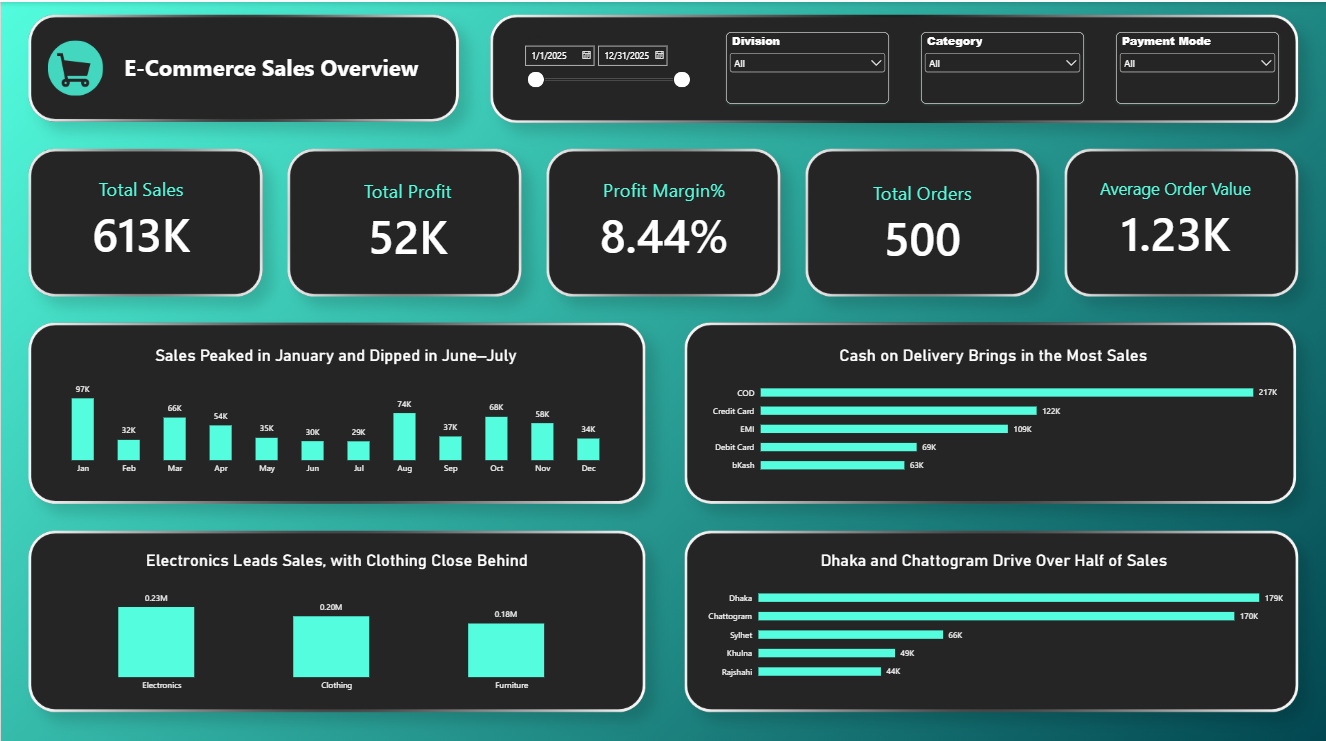

What the dashboard file says about the page in this screenshot:
{"tool":"powerbi","page":{"name":"Executive Overview","canvas":[1920,1080],"ordinal":0},"visuals":[{"type":"textbox","box":[146.1,66.8,499.9,248.9],"z":0},{"type":"cardVisual","fields":{"Data":["Calculation.Total Sales"]},"box":[67,231.6,272.7,168.8],"z":1000},{"type":"clusteredColumnChart","title":"Electronics Leads Sales, with Clothing Close Behind","fields":{"Category":["Product.Category"],"Y":["Sum(Sales.Amount)"]},"box":[51.9,779.1,867.8,238.1],"z":2000},{"type":"clusteredBarChart","title":"\tDhaka and Chattogram Drive Over Half of Sales","fields":{"Category":["Location.State "],"Y":["Sum(Sales.Amount)"]},"box":[1002,779.1,870,222.9],"z":3000},{"type":"slicer","fields":{"Values":["Calendar.Date"]},"box":[751,43.3,251,103.9],"z":4000},{"type":"slicer","fields":{"Values":["Product.Category"]},"box":[1331.7,43.3,235.9,103.9],"z":5000},{"type":"slicer","fields":{"Values":["Location.State "]},"box":[1048.9,43.3,235.9,103.9],"z":6000},{"type":"slicer","fields":{"Values":["Sales.PaymentMode"]},"box":[1614.5,43.3,235.9,103.9],"z":7000},{"type":"lineClusteredColumnComboChart","title":"\tSales Peaked in January and Dipped in June–July","fields":{"Category":["Calendar.Month"],"Y":["Calculation.Total Sales"]},"box":[59.7,483.2,850.5,220.7],"z":8000},{"type":"cardVisual","fields":{"Data":["Calculation.Total Profit"]},"box":[437.9,244.3,303,149.3],"z":9000},{"type":"cardVisual","fields":{"Data":["Calculation.Profit Margin%"]},"box":[831,238.1,259.7,158],"z":10000},{"type":"cardVisual","fields":{"Data":["Calculation.Total Orders"]},"box":[1203.3,231.6,261.9,181.8],"z":11000},{"type":"cardVisual","fields":{"Data":["Calculation.Average Order Value"]},"box":[1571.2,233.7,259.7,166.6],"z":12000},{"type":"barChart","title":"Cash on Delivery Brings in the Most Sales","fields":{"Category":["Sales.PaymentMode"],"Y":["Sum(Sales.Amount)"]},"box":[1009.8,483.2,854.2,220.8],"z":13000}]}

Visuals, with their boxes in screenshot pixels (x1, y1, x2, y2), scaled from the page's 1920x1080 canvas onto the 1326x741 screenshot:
textbox: {"x1": 101, "y1": 46, "x2": 446, "y2": 217}
cardVisual - Calculation.Total Sales: {"x1": 46, "y1": 159, "x2": 235, "y2": 275}
"Electronics Leads Sales, with Clothing Close Behind" clusteredColumnChart: {"x1": 36, "y1": 535, "x2": 635, "y2": 698}
"	Dhaka and Chattogram Drive Over Half of Sales" clusteredBarChart: {"x1": 692, "y1": 535, "x2": 1293, "y2": 687}
slicer - Calendar.Date: {"x1": 519, "y1": 30, "x2": 692, "y2": 101}
slicer - Product.Category: {"x1": 920, "y1": 30, "x2": 1083, "y2": 101}
slicer - Location.State : {"x1": 724, "y1": 30, "x2": 887, "y2": 101}
slicer - Sales.PaymentMode: {"x1": 1115, "y1": 30, "x2": 1278, "y2": 101}
"	Sales Peaked in January and Dipped in June–July" lineClusteredColumnComboChart: {"x1": 41, "y1": 332, "x2": 629, "y2": 483}
cardVisual - Calculation.Total Profit: {"x1": 302, "y1": 168, "x2": 512, "y2": 270}
cardVisual - Calculation.Profit Margin%: {"x1": 574, "y1": 163, "x2": 753, "y2": 272}
cardVisual - Calculation.Total Orders: {"x1": 831, "y1": 159, "x2": 1012, "y2": 284}
cardVisual - Calculation.Average Order Value: {"x1": 1085, "y1": 160, "x2": 1264, "y2": 275}
"Cash on Delivery Brings in the Most Sales" barChart: {"x1": 697, "y1": 332, "x2": 1287, "y2": 483}
